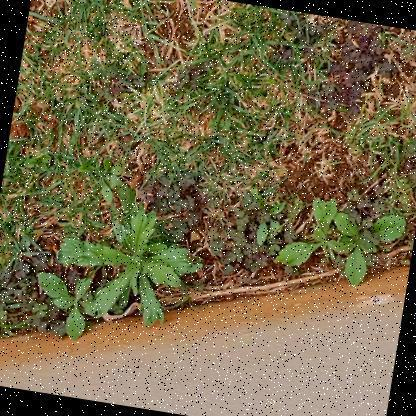Weeds: (48, 199, 207, 334), (323, 198, 408, 295), (273, 191, 360, 279), (27, 266, 114, 345)
